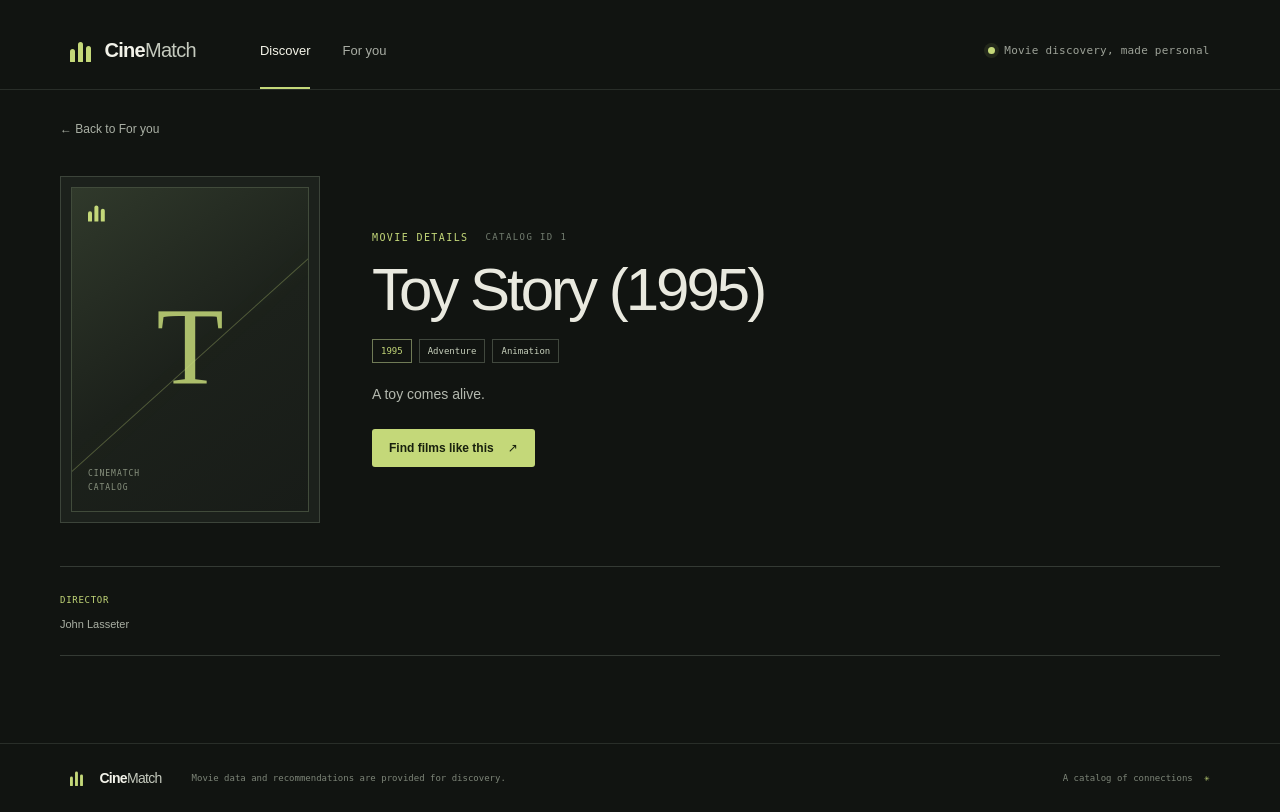
it: CineMatch frontend › navigates back to personalized view when opened with view=personalized
Expected: the heading "Toy Story (1995)" is shown, [372,256,764,323]
Step 1. Click the button "← Back to For you" → point(110, 129), box [60,114,159,144]
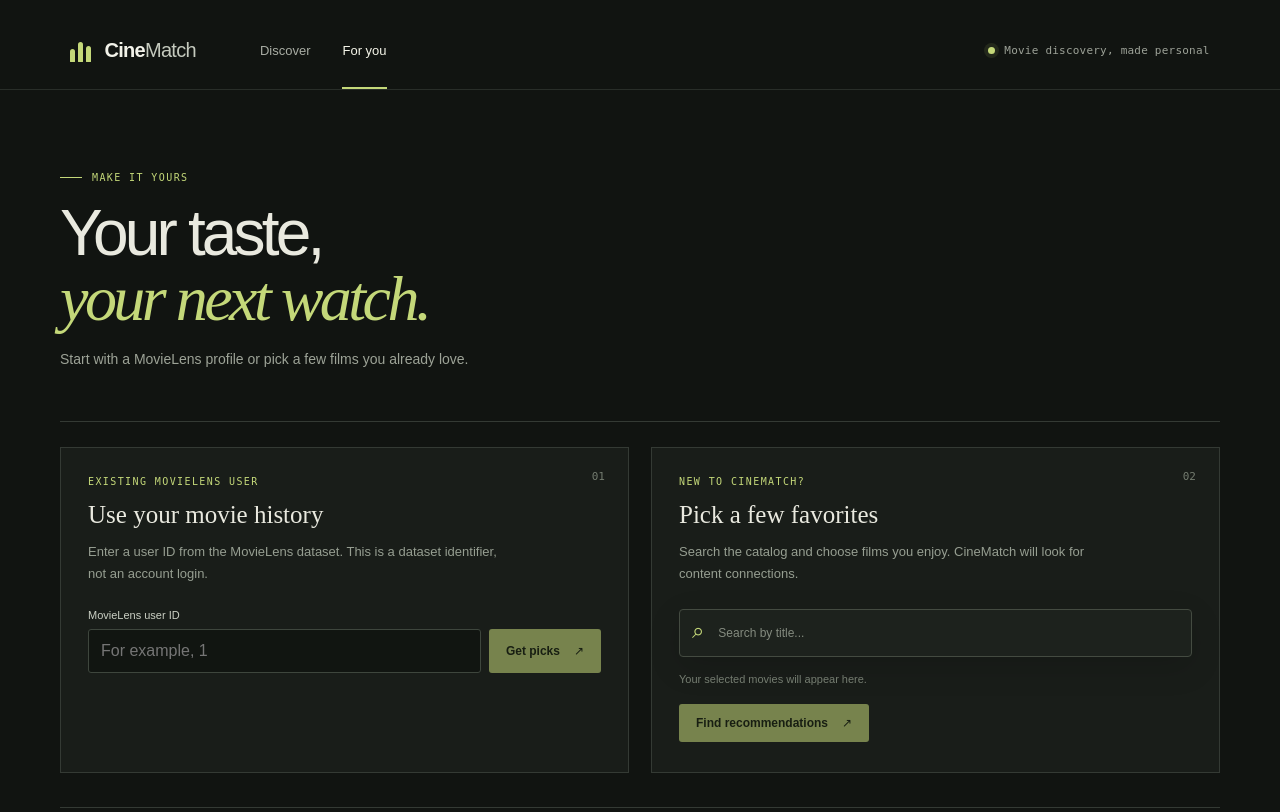
Expected: the heading "Your taste,your next watch." is shown, [60,197,428,334]
